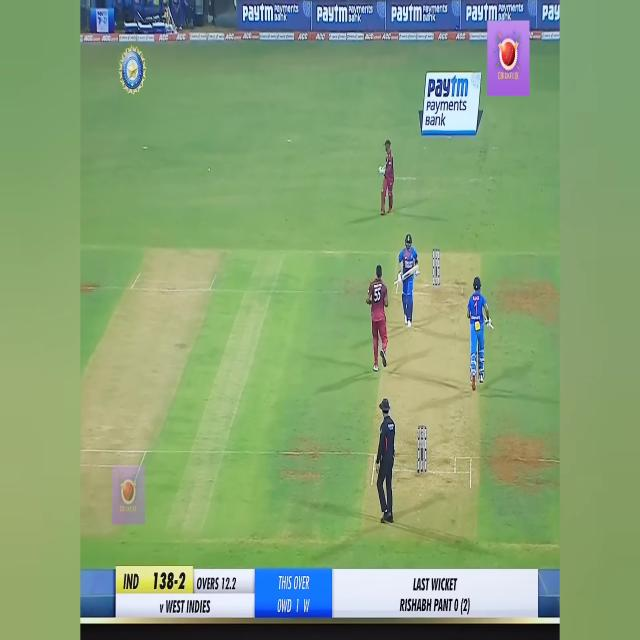fully_visible: (428, 72, 469, 100), (315, 1, 349, 28), (387, 1, 423, 26), (240, 4, 274, 29), (465, 3, 498, 28)
